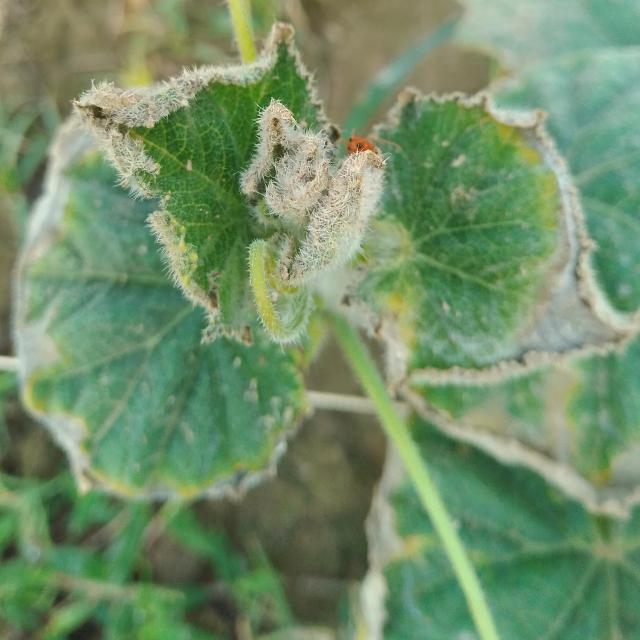cucumber_gummy: (4, 2, 640, 511), (344, 341, 639, 640)
